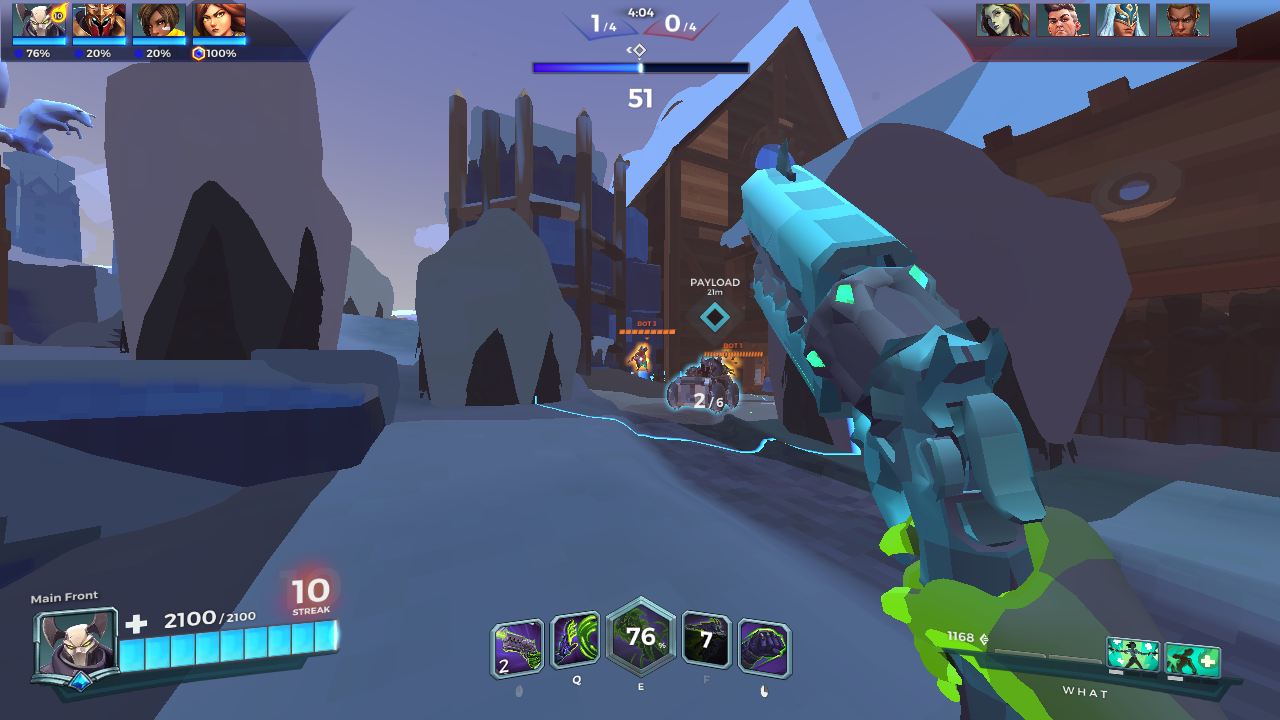model: (629, 340, 648, 373)
